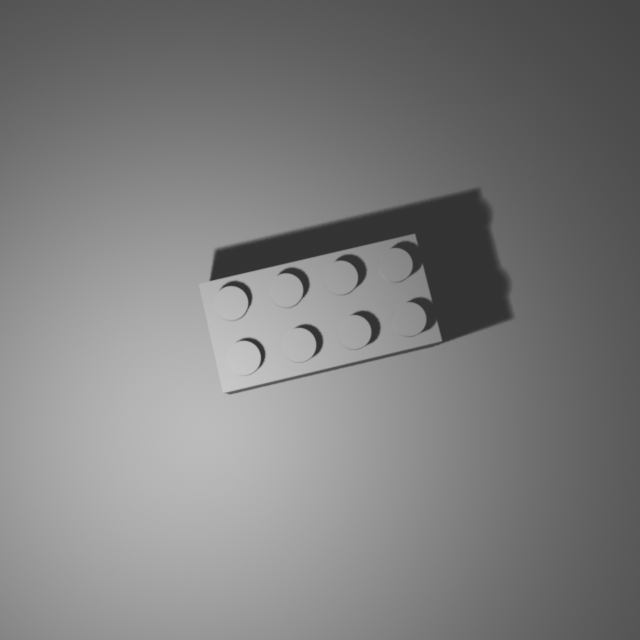lego_2x4: (197, 231, 444, 395)
